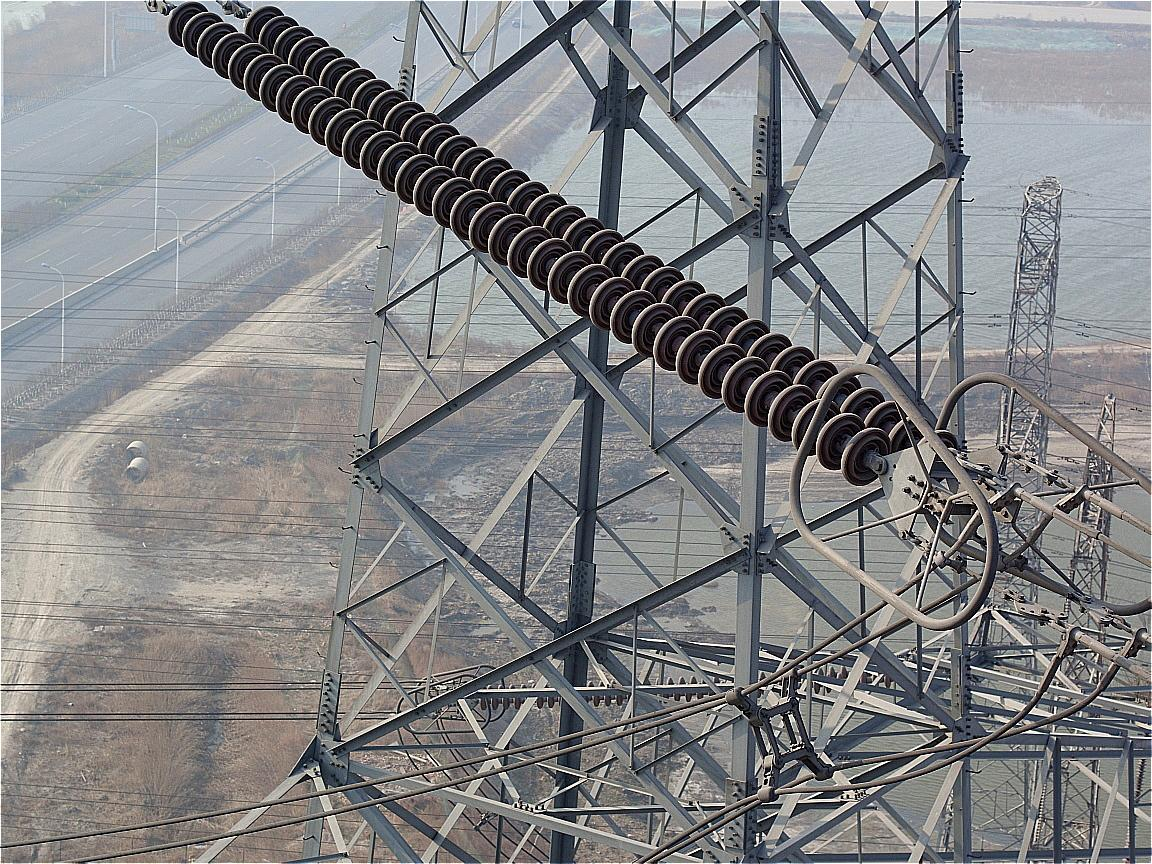insultor1: (167, 2, 921, 485)
